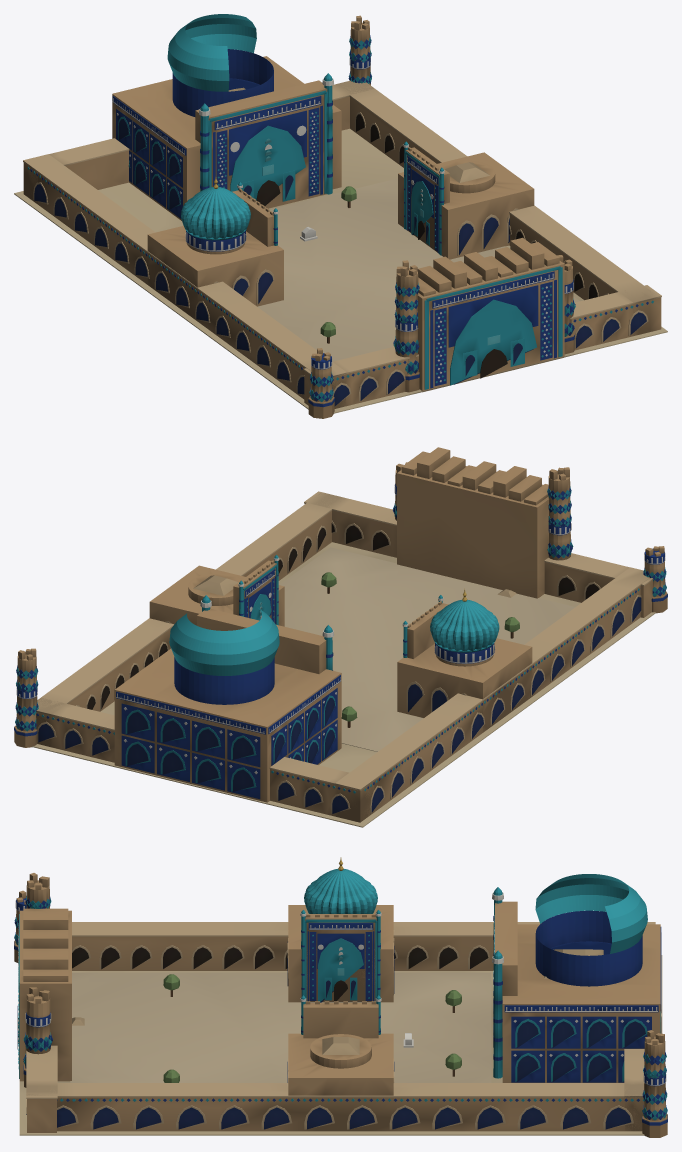
Rendered from bibi-khanym-1650.glb.
The picture shows the model from 3 angles, top to bottom: view 1: azimuth 30°, elevation 25°; view 2: azimuth 150°, elevation 25°; view 3: azimuth 270°, elevation 25°; orthographic projection. The views are drawn at different scales.
Visible parts, largest first — view 1: p0_walls, p3_minarets, p2_side mosques, p1_portal; view 2: p0_walls, p3_minarets, p1_portal, p2_side mosques; view 3: p0_walls, p3_minarets, p2_side mosques, p1_portal.
Part boxes in pixels (<box>): p0_walls: <box>14,80,667,413</box>; p3_minarets: <box>112,14,371,418</box>; p2_side mosques: <box>147,141,534,321</box>; p1_portal: <box>393,237,575,392</box>; p0_walls: <box>32,491,655,827</box>; p3_minarets: <box>14,546,667,802</box>; p1_portal: <box>393,447,573,598</box>; p2_side mosques: <box>149,555,532,732</box>; p0_walls: <box>19,922,662,1135</box>; p3_minarets: <box>14,874,667,1137</box>; p2_side mosques: <box>287,857,394,1095</box>; p1_portal: <box>17,873,71,1087</box>.
Bounding box in the file's own units: 116 × 45.54 × 174.
